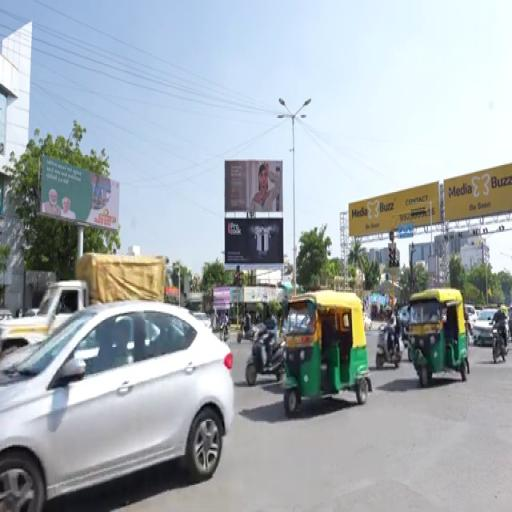Car: (0, 302, 235, 511), (472, 309, 496, 345), (192, 312, 211, 329), (464, 305, 477, 327), (364, 313, 371, 329)
